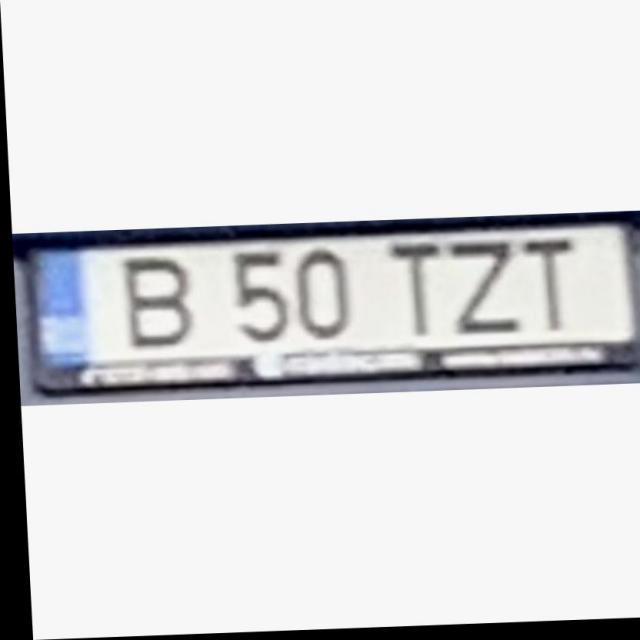license-plates: (27, 225, 640, 392)
